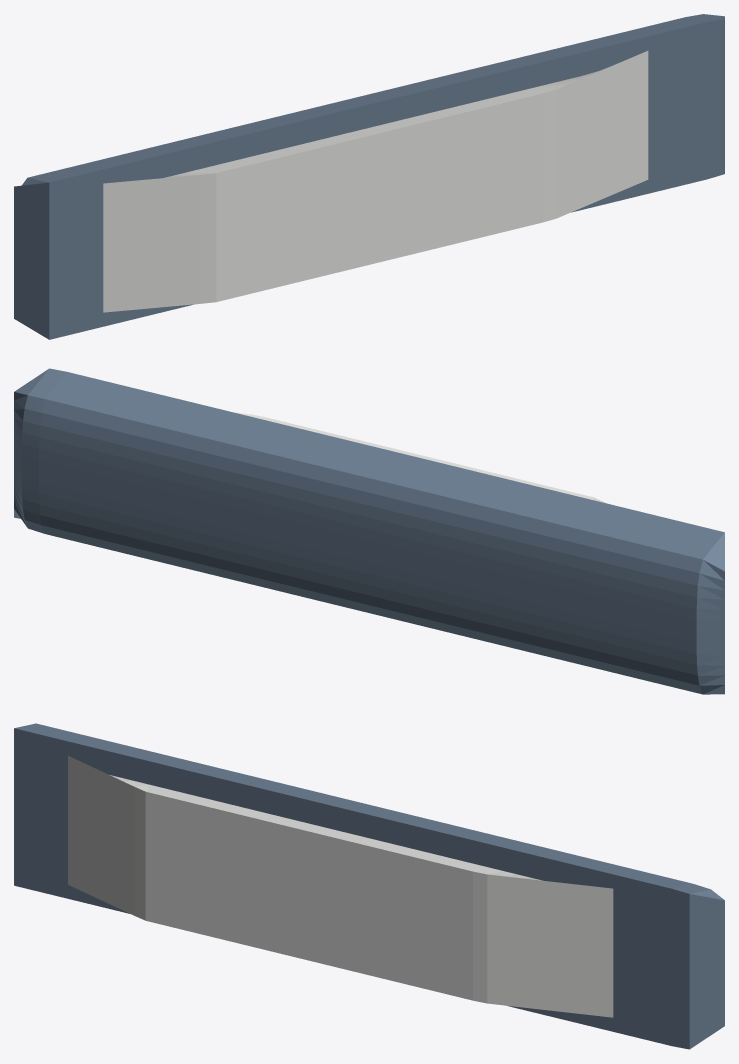
The model's file is barge-loft.glb.
The picture shows the model from 3 angles, top to bottom: view 1: azimuth 30°, elevation 25°; view 2: azimuth 150°, elevation 25°; view 3: azimuth 330°, elevation 25°; orthographic projection.
Parts seen in each view (by area): view 1: barge; view 2: barge; view 3: barge.
Part boxes in pixels (x1,y1,x2,y2): barge: [14, 14, 724, 339]; barge: [14, 368, 724, 694]; barge: [14, 723, 724, 1049].
Bounding box in the file's own units: 1.89 × 0.4 × 0.2108.
